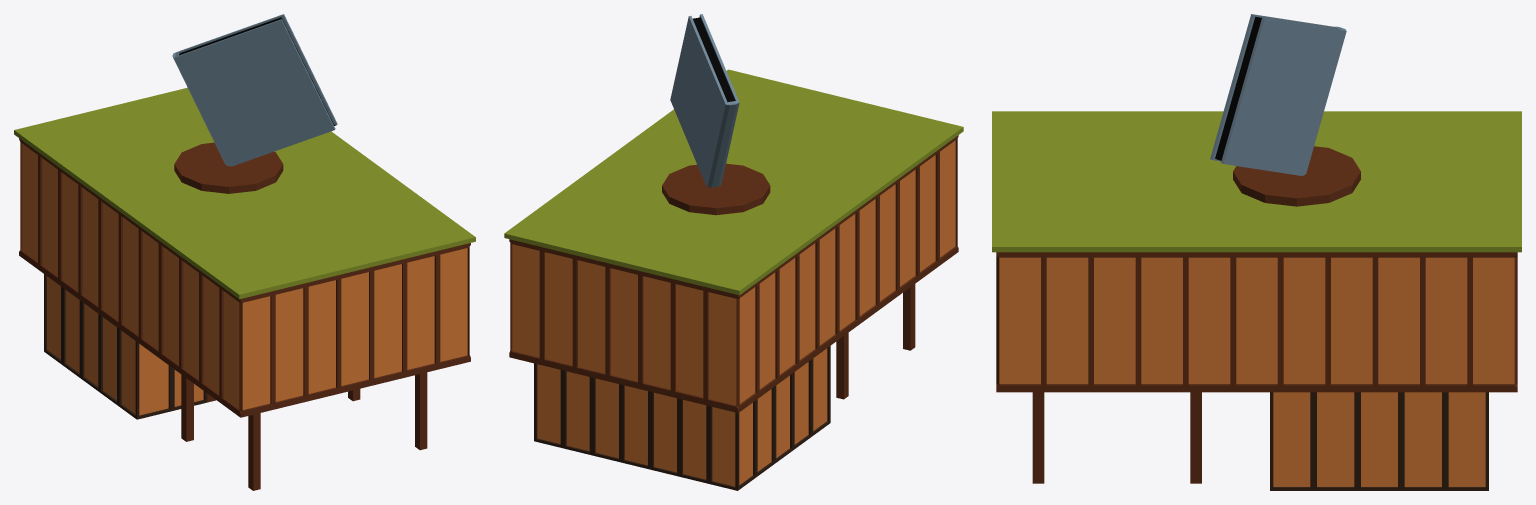
File: Bibliotheek_Export.FBX
3 renders of one model, left to right at view 1: azimuth 30°, elevation 25°; view 2: azimuth 150°, elevation 25°; view 3: azimuth 270°, elevation 25°, orthographic. The views are drawn at different scales.
Visible parts, largest first — view 1: Bibliotheek; view 2: Bibliotheek; view 3: Bibliotheek.
Part boxes in pixels (left/top/right/bottom): Bibliotheek: left=14, top=14, right=475, bottom=490; Bibliotheek: left=504, top=14, right=963, bottom=490; Bibliotheek: left=992, top=14, right=1521, bottom=490.
Bounding box in the file's own units: 759 × 1252 × 1145.
